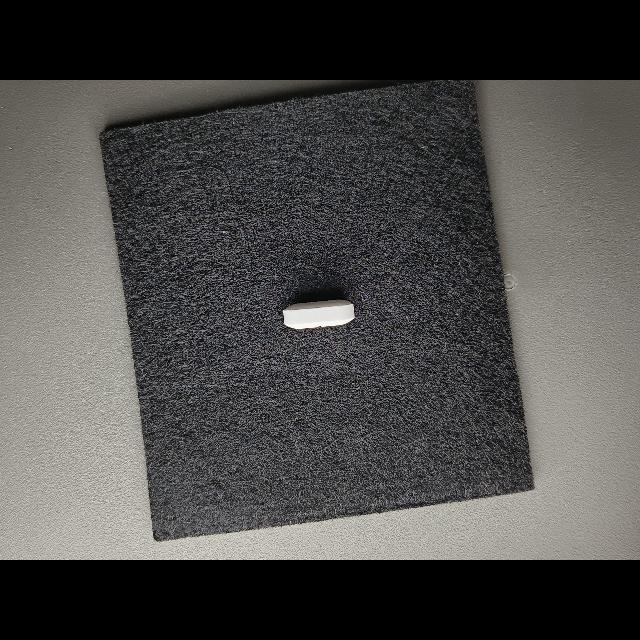Intact Pill: (283, 300, 354, 329)
